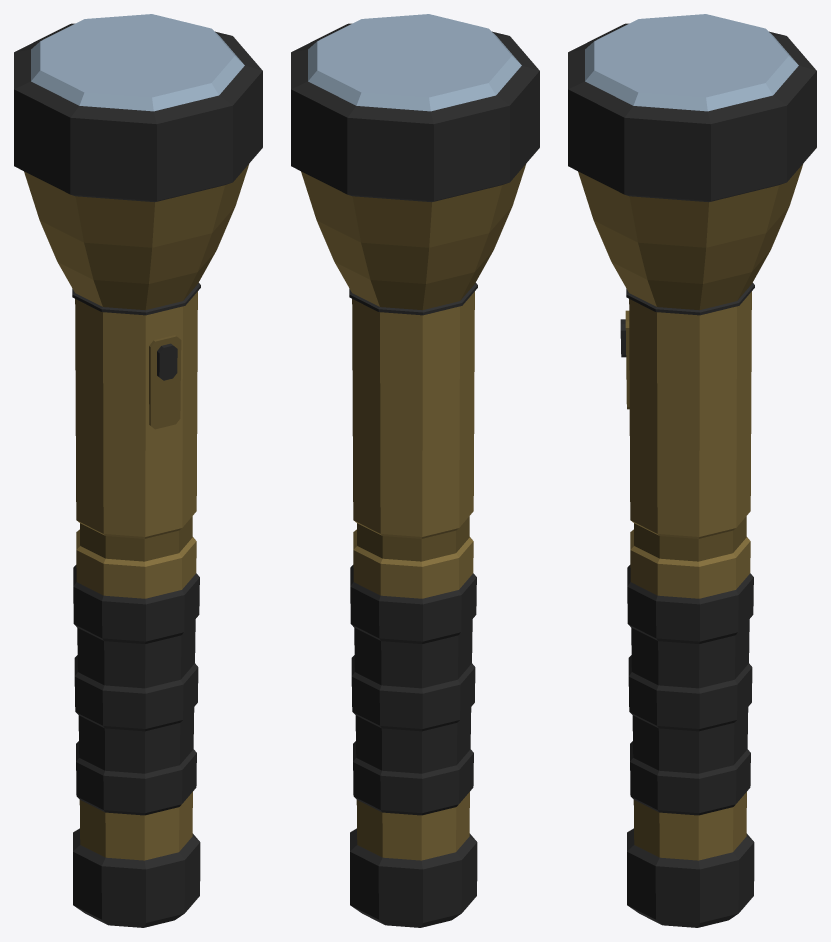
The model's file is Torch.glb.
3 views of the same model, side by side, from view 1: azimuth 30°, elevation 25°; view 2: azimuth 150°, elevation 25°; view 3: azimuth 270°, elevation 25° (orthographic).
Parts seen in each view (by area): view 1: Torch; view 2: Torch; view 3: Torch.
Boxes of the visible parts, <box> form: Torch: <box>14,14,262,927</box>; Torch: <box>291,14,539,927</box>; Torch: <box>568,14,816,927</box>.
Size of the model in its own units: 0.6764 by 2.51 by 0.6661.
